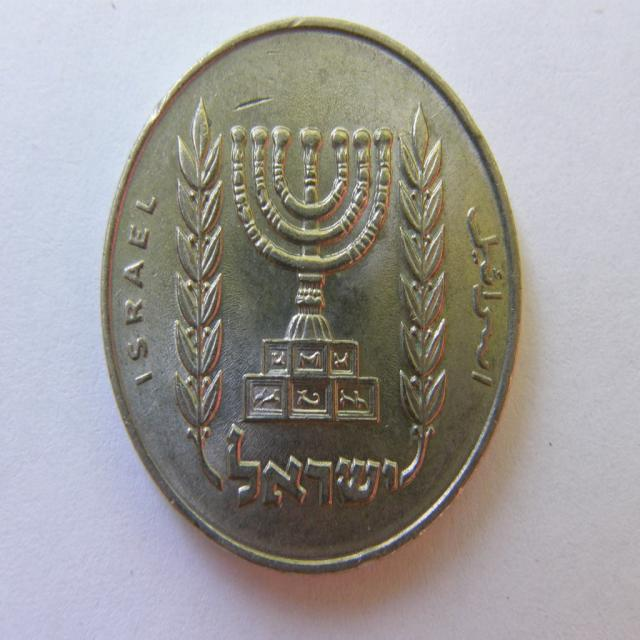Coin: (103, 13, 526, 575)
